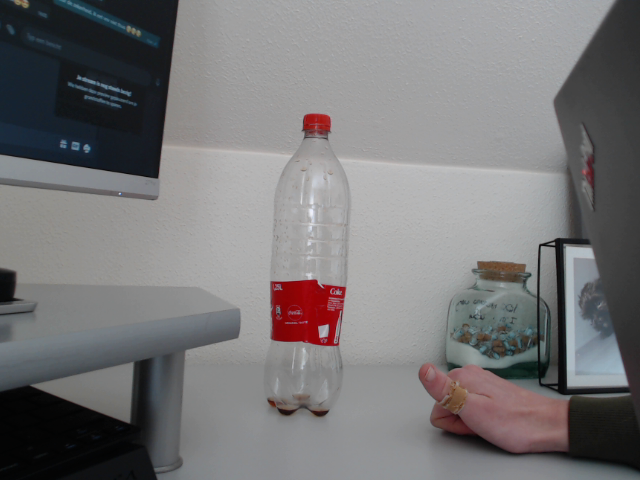bottle: (263, 111, 350, 417)
